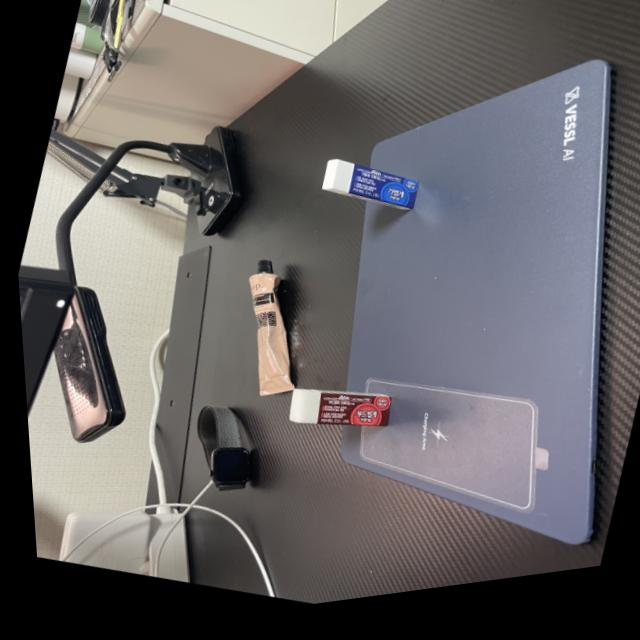blue: (299, 143, 433, 244)
red: (269, 367, 413, 469)
